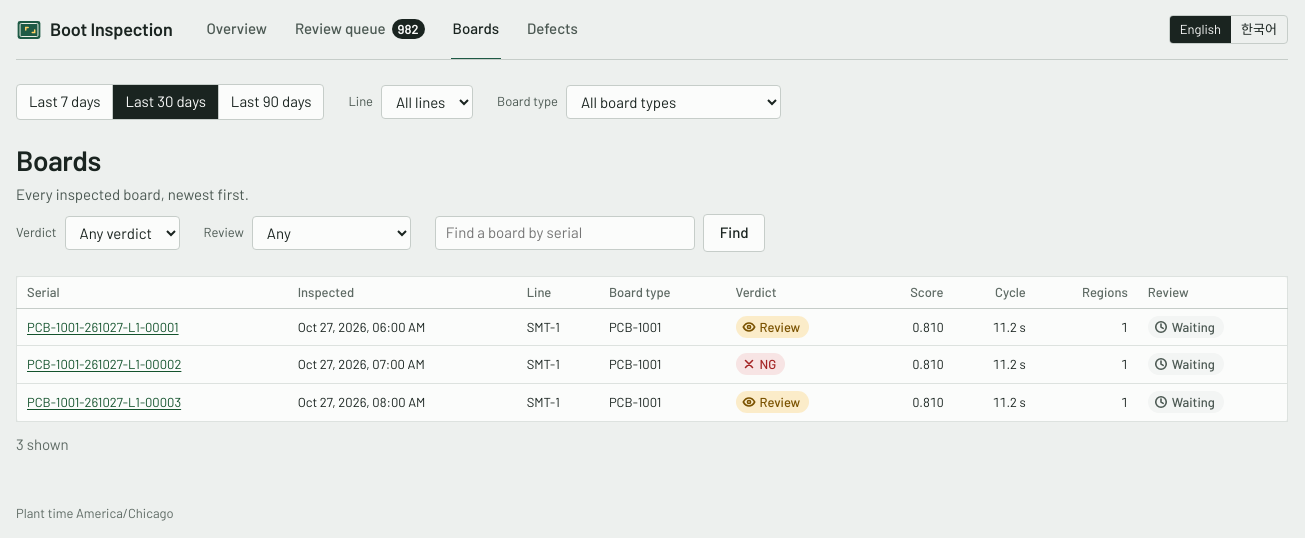
Test: Boards › finds a board by serial number
The width and height of the screenshot is (1305, 538).
Expected: the text "3 shown" is shown, [16,434,69,456]
Type "PCB-1001-261027-L1-00002" into the search field at (565, 233), box [435,216,695,250]
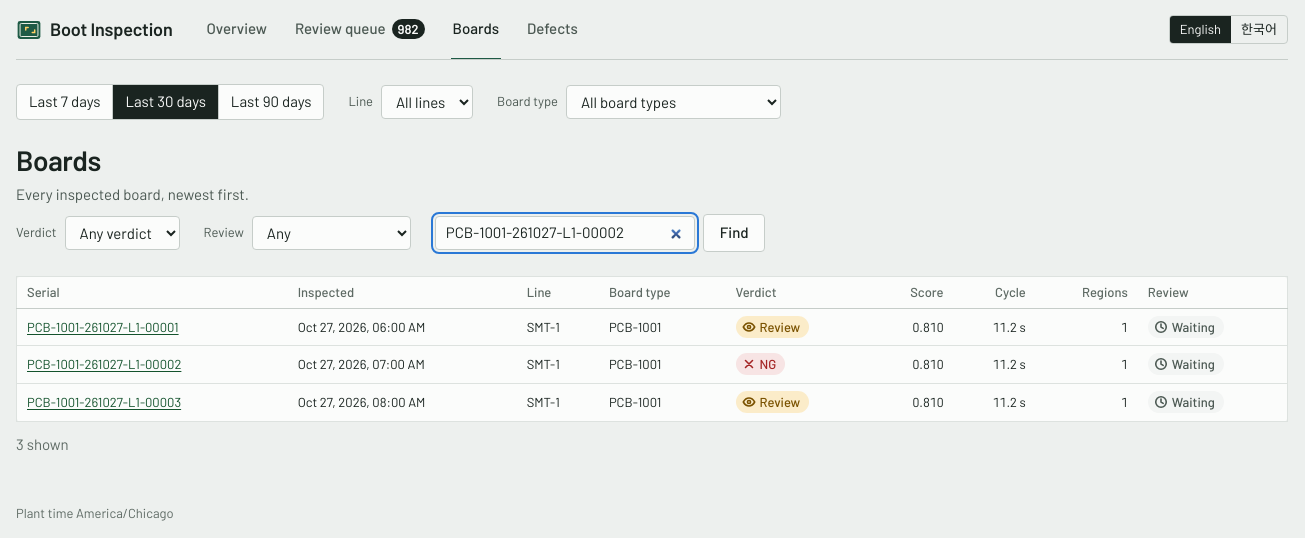
Click the button "Find" at (734, 233), box [703,214,765,252]
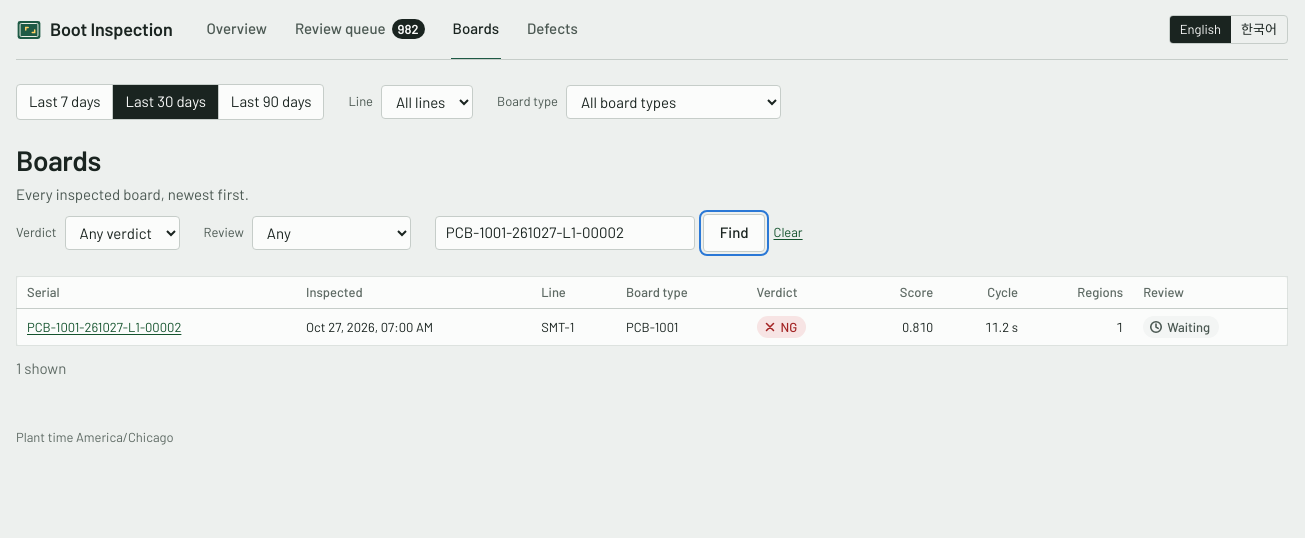
Now the text "1 shown" is shown, box [16,358,66,380]
